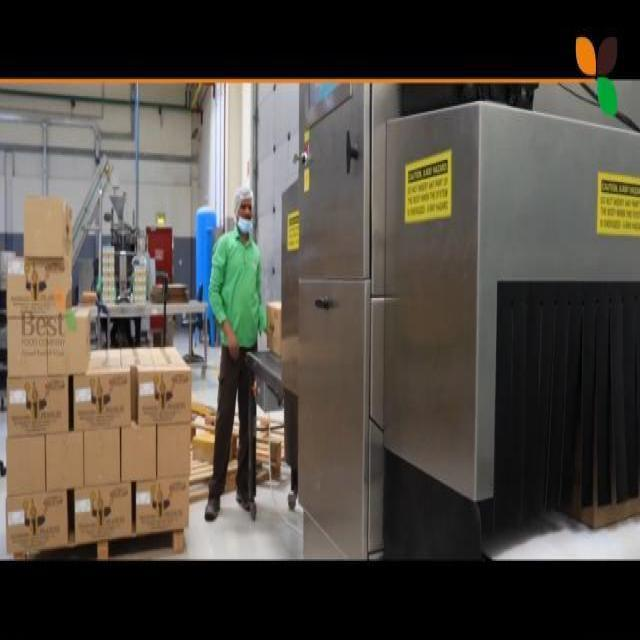bare_hand: (222, 320, 243, 365)
